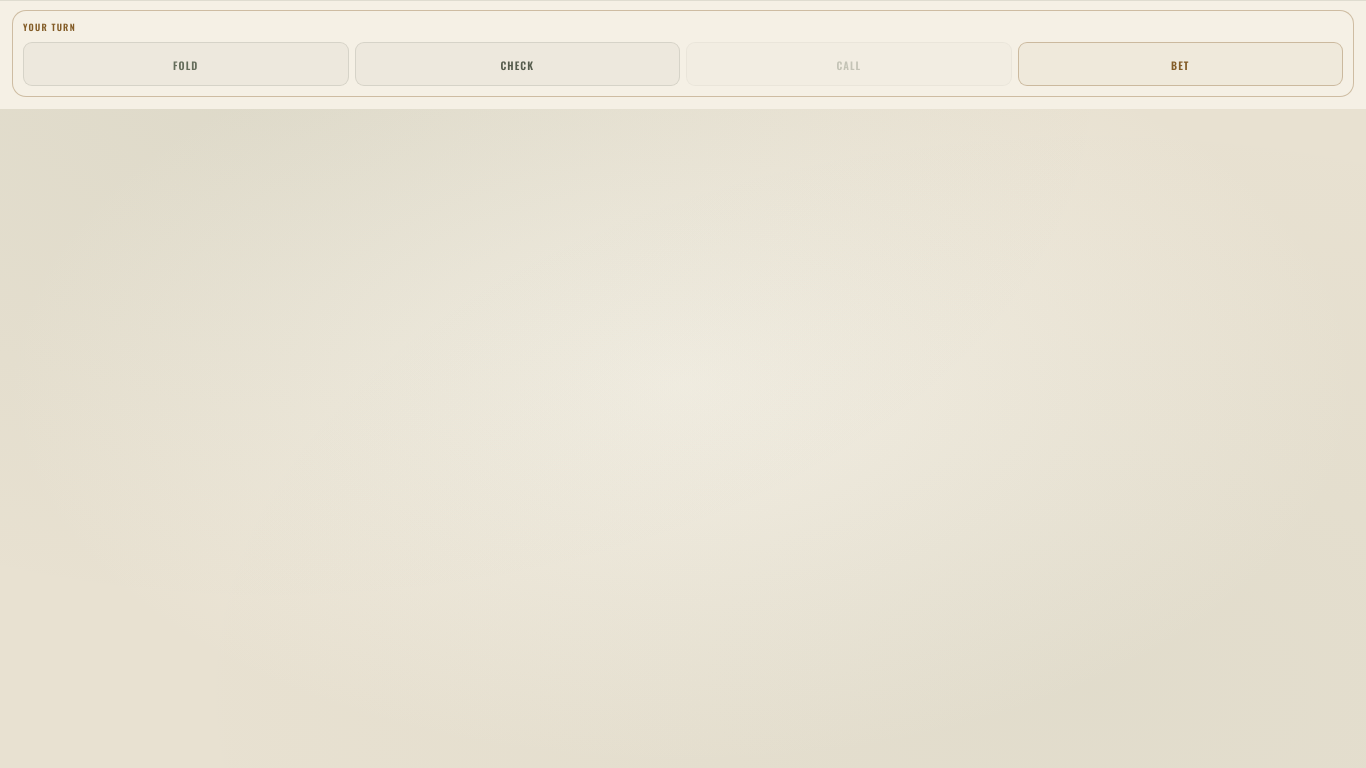
Test: BET is the one verb that needs a number › opens the panel instead of sending chips
Click the button "BET" at (1180, 64), box [1018,42,1343,86]
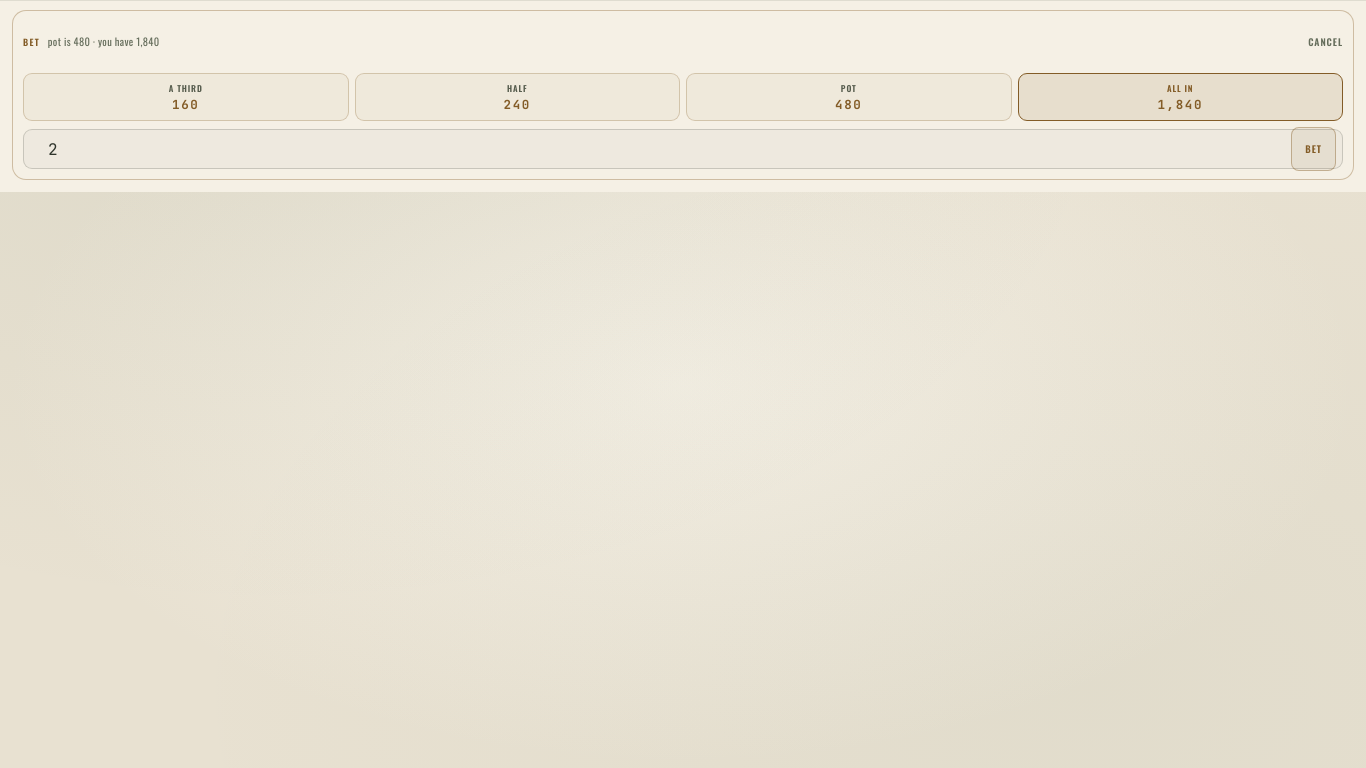
expect the element with test id "sit-bet-panel" is shown: met, box [0,0,1365,192]
